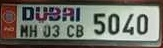character: (92, 12, 105, 35), (122, 12, 134, 36), (107, 13, 119, 35), (136, 13, 147, 35), (21, 5, 34, 21), (61, 7, 74, 22), (35, 5, 47, 21), (48, 6, 60, 21), (65, 24, 75, 38), (19, 23, 28, 38), (41, 24, 50, 38), (75, 24, 84, 38), (28, 24, 37, 37), (51, 24, 60, 37), (74, 7, 81, 22)
